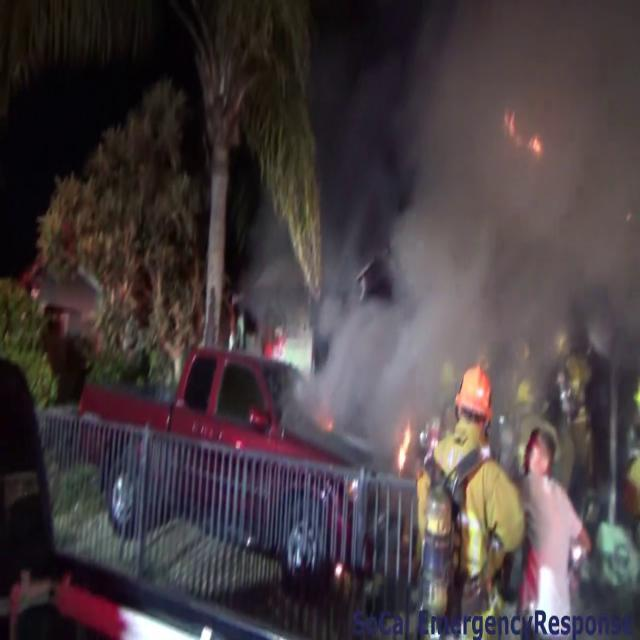Smoke: (294, 0, 640, 441)
